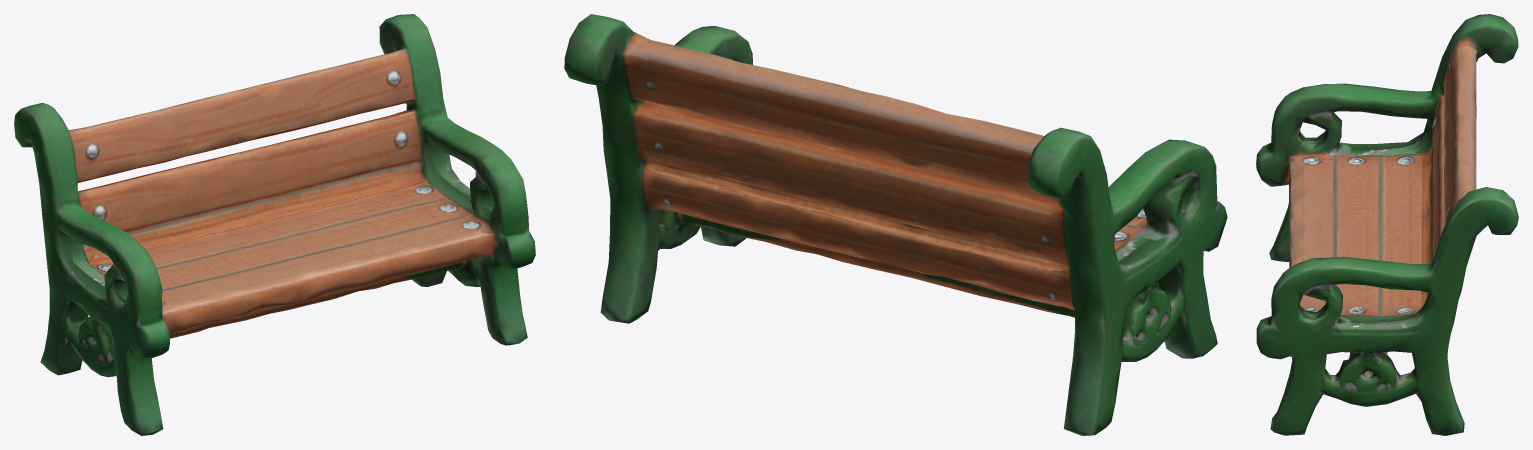
File: Prop_Bench.glb
3 renders of one model, left to right at view 1: azimuth 30°, elevation 25°; view 2: azimuth 150°, elevation 25°; view 3: azimuth 270°, elevation 25°, orthographic. The views are drawn at different scales.
Visible parts, largest first — view 1: input; view 2: input; view 3: input.
Part boxes in pixels (x1=…): input: x1=14, y1=14, x2=535, y2=435; input: x1=564, y1=14, x2=1227, y2=435; input: x1=1256, y1=14, x2=1518, y2=435.
Size of the model in its own units: 0.9925 by 0.5987 by 0.5929.
Materials: 1 (1 with a texture image).
